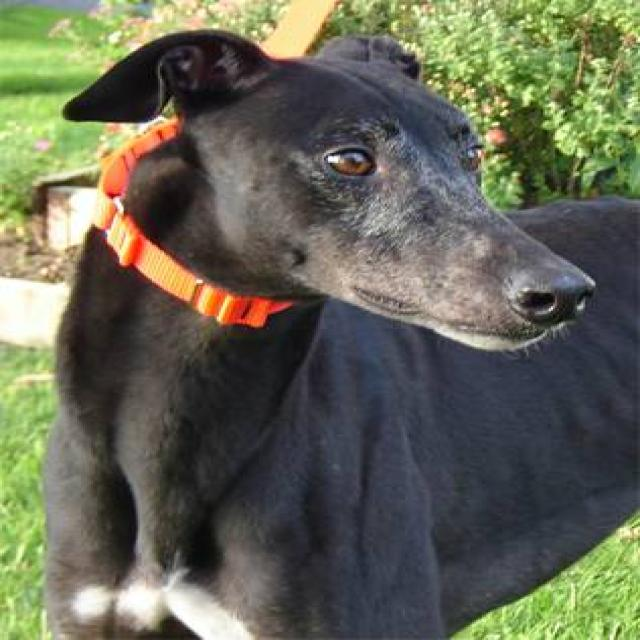dog: (36, 25, 638, 638)
